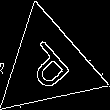P_SE: (19, 34, 78, 97)
